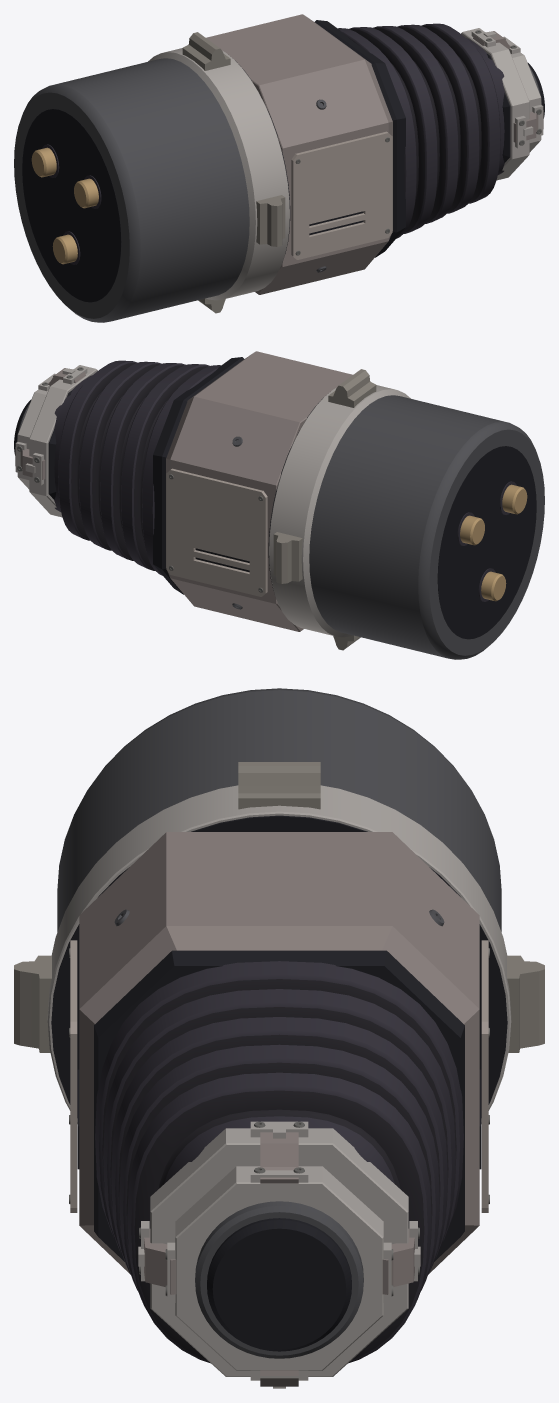
File: power-plug-body.glb
3 views of the same model, one above another, from view 1: azimuth 30°, elevation 25°; view 2: azimuth 150°, elevation 25°; view 3: azimuth 270°, elevation 25° (orthographic). The views are drawn at different scales.
Parts seen in each view (by area): view 1: Mating spigot | graphite carrier, Strain relief | five convolutions, Housing | armored casting, Mating spigot | insulating insert, Port | twin-slot access cover, Coupling | receiver-side retaining band, Strain relief | housing seal, Cable clamp | broad octagonal base, Port latch | radial keeper shoulder, Top latch | radial keeper shoulder, Cable clamp | stepped octagonal cap, Contact 2 | pin (+3 smaller); view 2: Mating spigot | graphite carrier, Strain relief | five convolutions, Housing | armored casting, Mating spigot | insulating insert, Starboard | twin-slot access cover, Coupling | receiver-side retaining band, Strain relief | housing seal, Cable clamp | broad octagonal base, Starboard latch | radial keeper shoulder, Top latch | radial keeper shoulder, Cable clamp | stepped octagonal cap, Contact 1 | pin (+3 smaller); view 3: Strain relief | five convolutions, Housing | armored casting, Mating spigot | graphite carrier, Cable gland | sealing lip, Coupling | receiver-side retaining band, Cable clamp | stepped octagonal cap, Cable clamp | broad octagonal base, Strain relief | housing seal, Coupling | housing seam, Cable gland | compression ring, Top latch | radial keeper shoulder, Port latch | radial keeper shoulder (+6 smaller).
Part boxes in pixels (bbox=[...]): Mating spigot | graphite carrier: bbox=[14, 58, 249, 322]; Strain relief | five convolutions: bbox=[338, 23, 504, 238]; Housing | armored casting: bbox=[206, 14, 392, 294]; Mating spigot | insulating insert: bbox=[22, 109, 121, 302]; Port | twin-slot access cover: bbox=[291, 131, 392, 259]; Coupling | receiver-side retaining band: bbox=[148, 48, 289, 300]; Strain relief | housing seal: bbox=[315, 20, 405, 257]; Cable clamp | broad octagonal base: bbox=[461, 28, 529, 180]; Port latch | radial keeper shoulder: bbox=[256, 195, 285, 246]; Top latch | radial keeper shoulder: bbox=[182, 32, 230, 70]; Cable clamp | stepped octagonal cap: bbox=[511, 52, 541, 152]; Contact 2 | pin: bbox=[31, 147, 56, 177]; Mating spigot | graphite carrier: bbox=[309, 395, 544, 659]; Strain relief | five convolutions: bbox=[54, 360, 220, 575]; Housing | armored casting: bbox=[166, 351, 352, 631]; Mating spigot | insulating insert: bbox=[437, 446, 536, 639]; Starboard | twin-slot access cover: bbox=[166, 468, 267, 596]; Coupling | receiver-side retaining band: bbox=[269, 385, 410, 637]; Strain relief | housing seal: bbox=[153, 357, 243, 594]; Cable clamp | broad octagonal base: bbox=[29, 365, 97, 517]; Starboard latch | radial keeper shoulder: bbox=[273, 532, 302, 583]; Top latch | radial keeper shoulder: bbox=[328, 369, 376, 407]; Cable clamp | stepped octagonal cap: bbox=[17, 389, 47, 489]; Contact 1 | pin: bbox=[502, 484, 527, 514]; Strain relief | five convolutions: bbox=[95, 961, 463, 1363]; Housing | armored casting: bbox=[79, 832, 479, 1273]; Mating spigot | graphite carrier: bbox=[57, 688, 501, 931]; Cable gland | sealing lip: bbox=[207, 1218, 351, 1351]; Coupling | receiver-side retaining band: bbox=[47, 785, 511, 1123]; Cable clamp | stepped octagonal cap: bbox=[175, 1166, 383, 1370]; Cable clamp | broad octagonal base: bbox=[150, 1128, 408, 1376]; Strain relief | housing seal: bbox=[94, 950, 464, 1261]; Coupling | housing seam: bbox=[51, 815, 507, 1117]; Cable gland | compression ring: bbox=[195, 1201, 363, 1358]; Top latch | radial keeper shoulder: bbox=[238, 762, 320, 809]; Port latch | radial keeper shoulder: bbox=[14, 955, 51, 1052].
Size of the model in its own units: 1.34 by 0.724 by 0.724.
